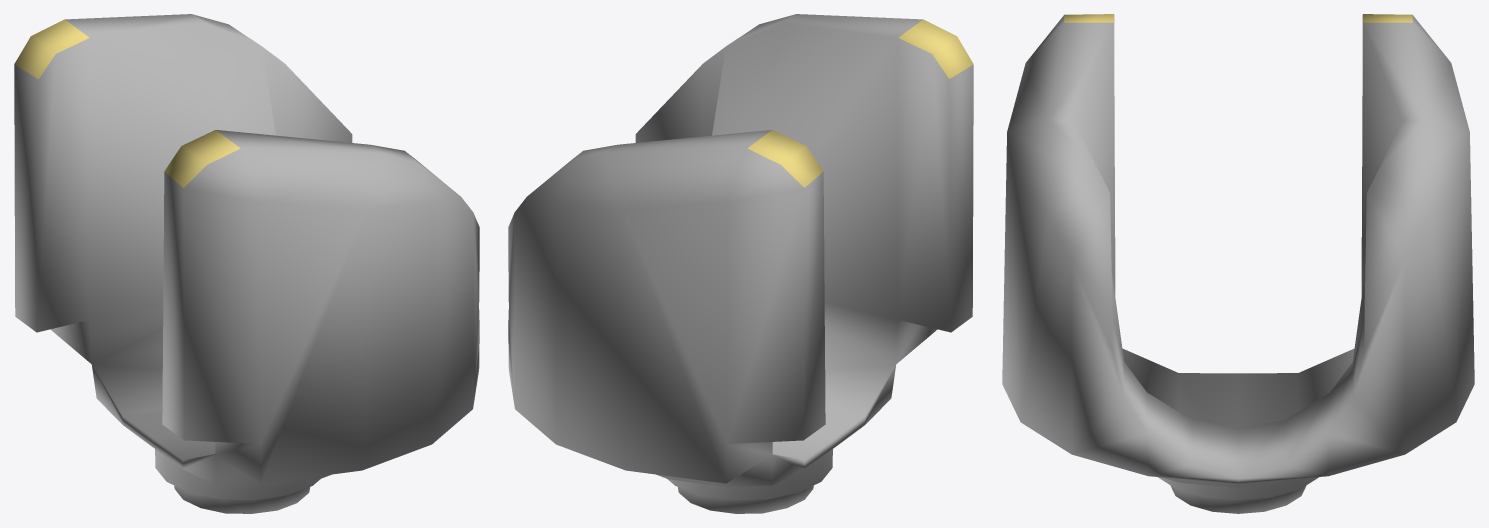
The model's file is COL_hollhollie_025_ringfinger_lr_rot_Coll.dae.
3 renders of one model, left to right at view 1: azimuth 30°, elevation 25°; view 2: azimuth 150°, elevation 25°; view 3: azimuth 270°, elevation 25°, orthographic.
Parts seen in each view (by area): view 1: COL_hollhollie_025_ringfinger_lr_rot_Coll; view 2: COL_hollhollie_025_ringfinger_lr_rot_Coll; view 3: COL_hollhollie_025_ringfinger_lr_rot_Coll.
Part boxes in pixels (left/top/right/bottom): COL_hollhollie_025_ringfinger_lr_rot_Coll: left=14, top=14, right=479, bottom=513; COL_hollhollie_025_ringfinger_lr_rot_Coll: left=508, top=14, right=973, bottom=513; COL_hollhollie_025_ringfinger_lr_rot_Coll: left=1002, top=14, right=1474, bottom=513.
Size of the model in its own units: 0.0195 by 0.023 by 0.0225.
